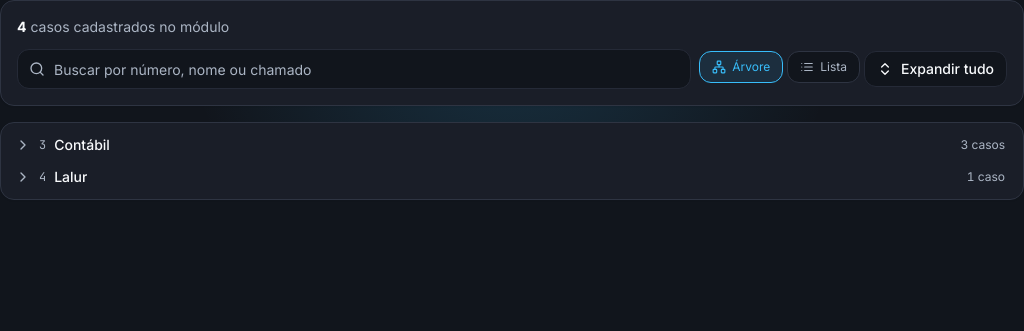
Test case: Casos de teste (lista do modulo) › busca mantem a arvore: so os grupos com caso encontrado, ja abertos
Type "lancamento" into the field named "Buscar casos de teste".
click(354, 69); type("lancamento")  # box [17, 49, 691, 89]
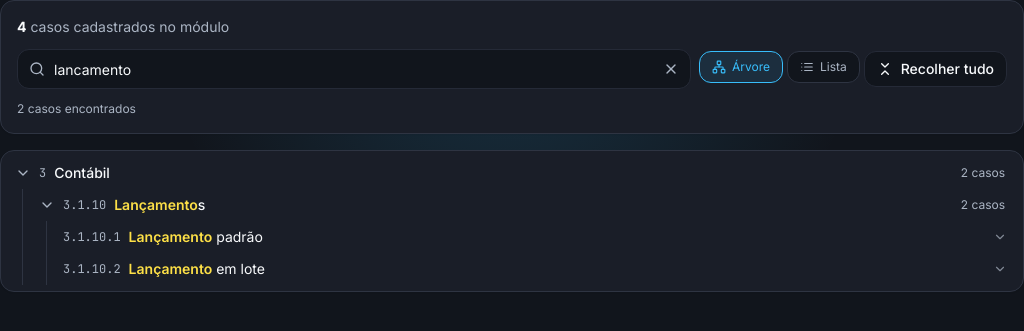
Result: the message reads "2 casos encontrados" at [17, 101, 136, 116]
Result: the button "3.1.10 Lançamentos 2 casos" is shown
Result: the button "3.1.10.1 Lançamento padrão" is shown at [63, 227, 263, 247]
// Dá para fechar o grupo durante a busca.
Click the button "3.1.10 Lançamentos 2 casos".
click(85, 205)  # box [31, 189, 1017, 221]
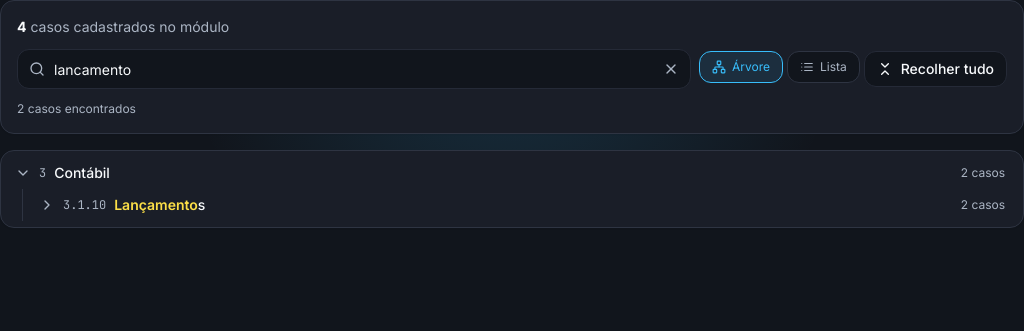
Result: the button "3.1.10.1" is gone
Replace the text in the field named "Buscar casos de teste" with "[4.2.1]" at (354, 69), box [17, 49, 691, 89]
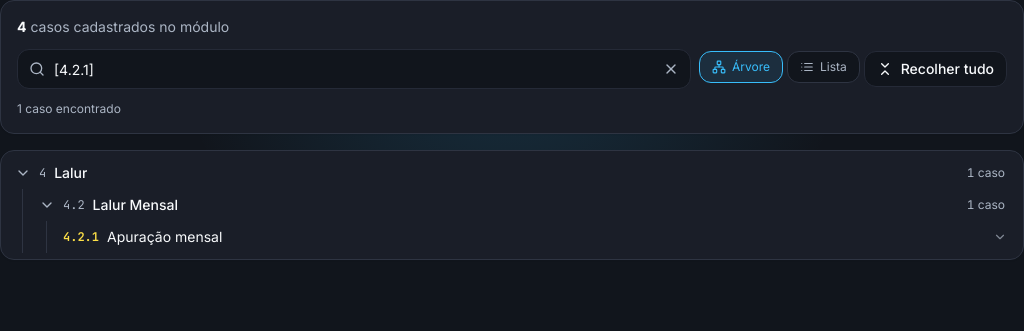
Result: the message reads "1 caso encontrado" at [17, 101, 121, 116]
Result: the text "Apuração mensal" is shown at [107, 227, 222, 247]
Replace the text in the field named "Buscar casos de teste" with "nada disso" at (354, 69), box [17, 49, 691, 89]
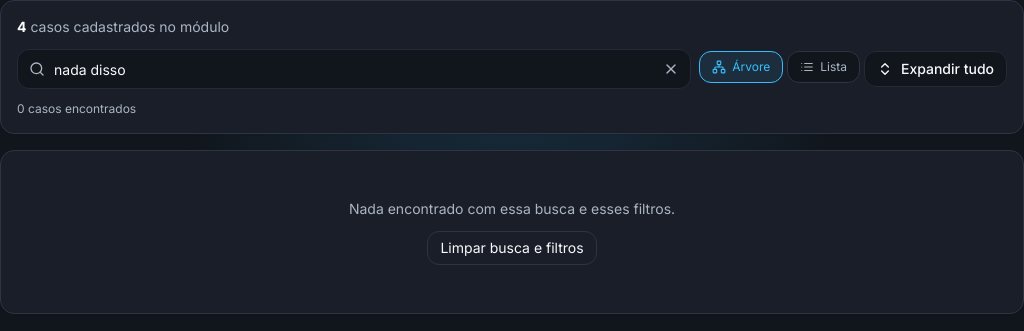
Result: the text "Nada encontrado com essa busca e esses filtros." is shown at [349, 200, 675, 217]
